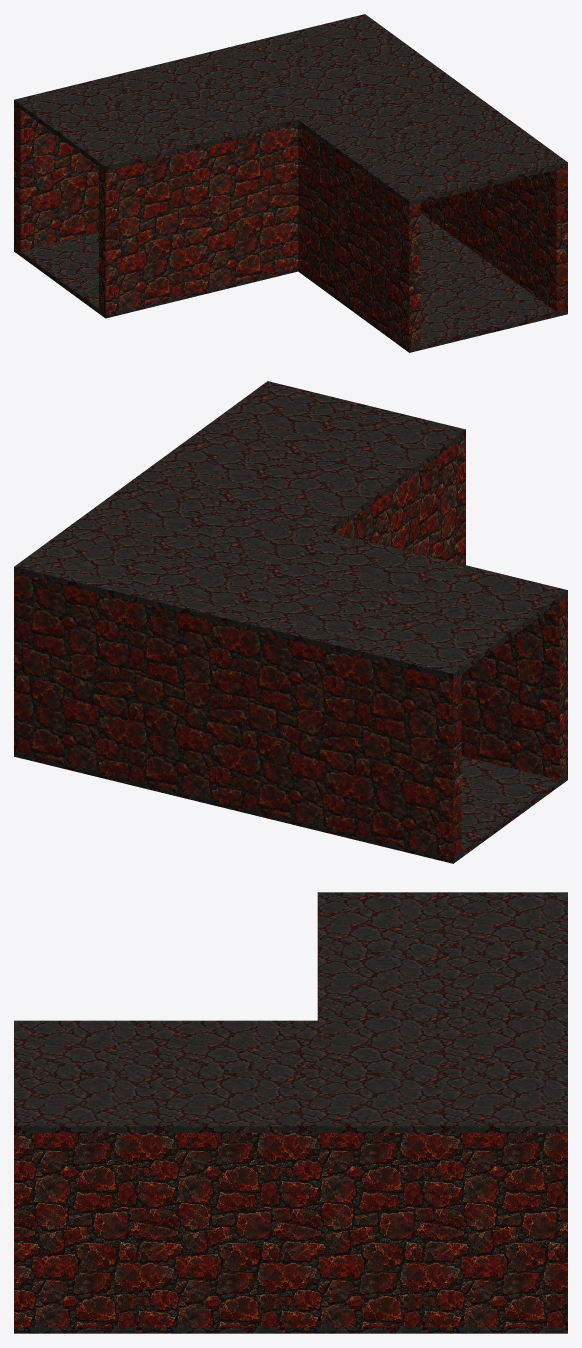
File: corridor_corner.glb
The picture shows the model from 3 angles, top to bottom: view 1: azimuth 30°, elevation 25°; view 2: azimuth 150°, elevation 25°; view 3: azimuth 270°, elevation 25°; orthographic projection. The views are drawn at different scales.
Visible parts, largest first — view 1: Geo_Ceiling_V, Geo_Wall_S, Geo_Ceiling_H, Geo_Wall_W.002, Geo_Wall_E.002, Geo_Floor_V, Geo_Wall_N, Geo_Floor_H; view 2: Geo_Wall_N, Geo_Ceiling_V, Geo_Ceiling_H, Geo_Wall_S, Geo_Wall_W.002, Geo_Floor_H, Geo_Floor_V; view 3: Geo_Wall_E.002, Geo_Ceiling_V, Geo_Ceiling_H, Geo_Floor_V, Geo_Wall_N.
Boxes of the visible parts, <box> form: Geo_Ceiling_V: <box>207,14,567,205</box>; Geo_Wall_S: <box>99,124,298,313</box>; Geo_Ceiling_H: <box>14,53,298,171</box>; Geo_Wall_W.002: <box>298,125,420,347</box>; Geo_Wall_E.002: <box>420,167,567,311</box>; Geo_Floor_V: <box>298,213,567,352</box>; Geo_Wall_N: <box>14,105,98,251</box>; Geo_Floor_H: <box>14,232,298,318</box>; Geo_Wall_N: <box>14,573,461,857</box>; Geo_Ceiling_V: <box>14,381,465,620</box>; Geo_Ceiling_H: <box>212,531,567,679</box>; Geo_Wall_S: <box>461,596,567,779</box>; Geo_Wall_W.002: <box>333,436,465,564</box>; Geo_Floor_H: <box>212,756,567,863</box>; Geo_Floor_V: <box>14,751,212,804</box>; Geo_Wall_E.002: <box>14,1133,549,1327</box>; Geo_Ceiling_V: <box>14,1020,567,1132</box>; Geo_Ceiling_H: <box>317,892,567,1020</box>; Geo_Floor_V: <box>14,1327,567,1333</box>; Geo_Wall_N: <box>550,1133,567,1327</box>.
Bounding box in the file's own units: 15.5 × 6.4 × 15.5.
Materials: 3 (3 with a texture image).
